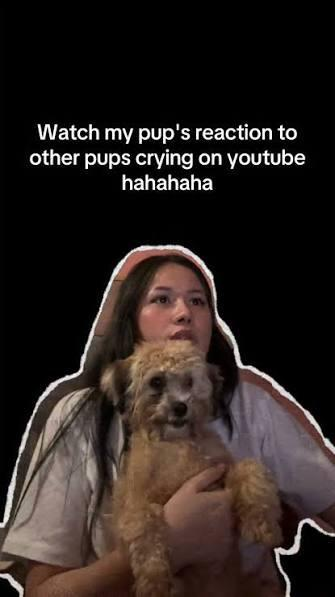non-dog: (0, 251, 335, 597)
puppy-dog: (94, 337, 288, 597)
